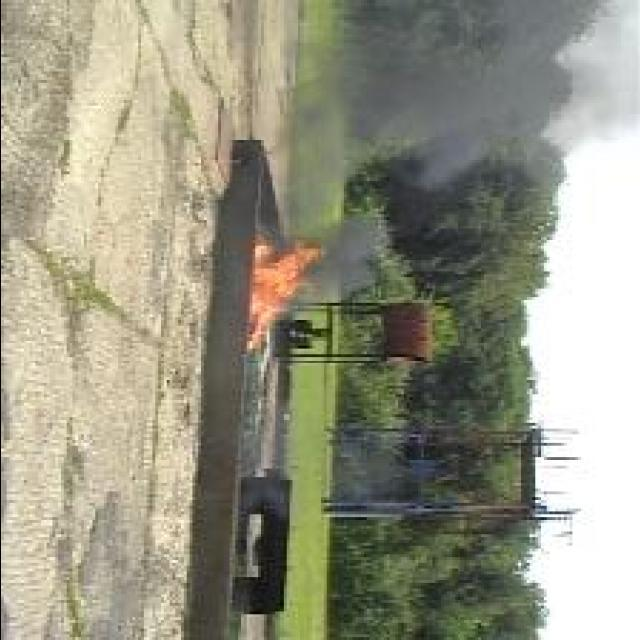Fire: (244, 238, 322, 352)
